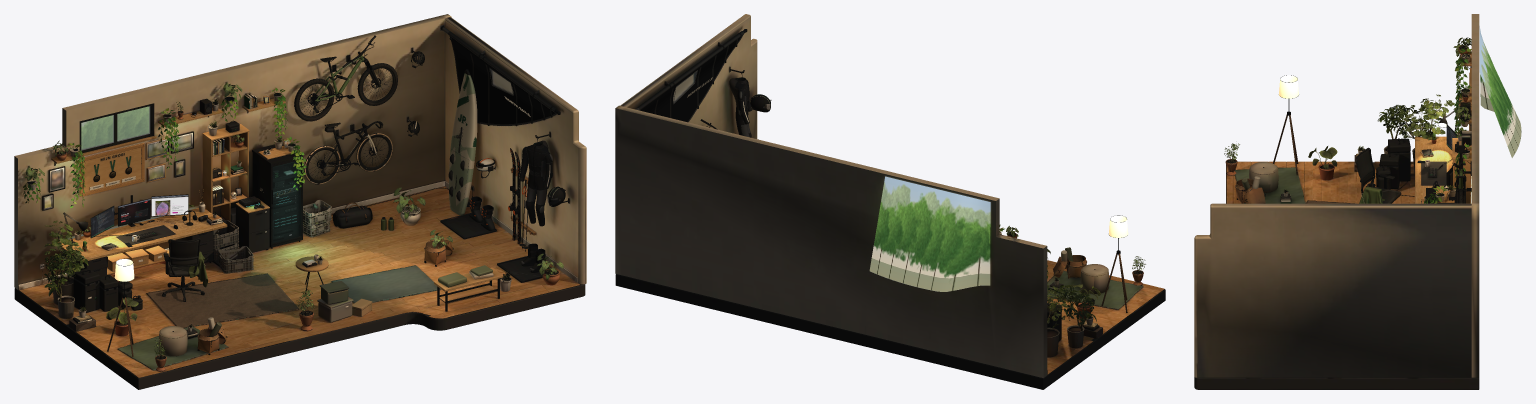
The model's file is room.glb.
3 renders of one model, left to right at view 1: azimuth 30°, elevation 25°; view 2: azimuth 150°, elevation 25°; view 3: azimuth 270°, elevation 25°, orthographic. The views are drawn at different scales.
Parts seen in each view (by area): view 1: decor_shell__matte, decor_room_life__matte, story_windsurfen__matte, decor_back_wall__matte, story_werk__matte, decor_floor__matte, decor_shelving__matte, story_homelab__matte, decor_left_corner__matte, decor_desk_clutter__matte, story_groei__matte, story_motorrijden__matte (+18 smaller); view 2: decor_shell__matte, window_back_outside, decor_room_life__matte, story_windsurfen__matte, decor_left_corner__matte, story_motorrijden__matte, decor_left_corner__cutout; view 3: decor_shell__matte, decor_room_life__matte, story_werk__matte, decor_left_corner__matte, window_back_outside, decor_back_wall__matte, decor_left_corner__cutout, decor_desk_clutter__matte, story_homelab__matte, decor_shelving__matte, story_mountainbiken__matte, lamp_shade.001 (+3 smaller).
Part boxes in pixels (x1,y1,x2,y2): decor_shell__matte: (14,14,586,389); decor_room_life__matte: (107,238,513,371); story_windsurfen__matte: (440,25,560,215); decor_back_wall__matte: (23,88,287,225); story_werk__matte: (58,194,227,301); decor_floor__matte: (42,250,298,336); decor_shelving__matte: (202,120,269,253); story_homelab__matte: (252,136,306,248); decor_left_corner__matte: (44,230,142,331); decor_desk_clutter__matte: (74,189,213,276); story_groei__matte: (79,143,144,196); story_motorrijden__matte: (519,131,569,272); decor_shell__matte: (615,14,1165,389); window_back_outside: (869,176,990,291); decor_room_life__matte: (1047,247,1143,312); story_windsurfen__matte: (635,29,747,122); decor_left_corner__matte: (1047,285,1102,357); story_motorrijden__matte: (729,67,771,137); decor_left_corner__cutout: (1047,284,1074,328); decor_shell__matte: (1194,14,1479,389); decor_room_life__matte: (1225,114,1305,203); story_werk__matte: (1355,110,1457,203); decor_left_corner__matte: (1354,101,1440,196); window_back_outside: (1479,26,1521,157); decor_back_wall__matte: (1421,45,1471,203); decor_left_corner__cutout: (1393,94,1454,140); decor_desk_clutter__matte: (1417,133,1446,185); story_homelab__matte: (1424,185,1463,203); decor_shelving__matte: (1452,128,1470,203); story_mountainbiken__matte: (1452,145,1471,203); lamp_shade.001: (1279,75,1298,98).
Size of the model in its own units: 8.37 by 3.28 by 5.19.
75 materials, 45 textured.
